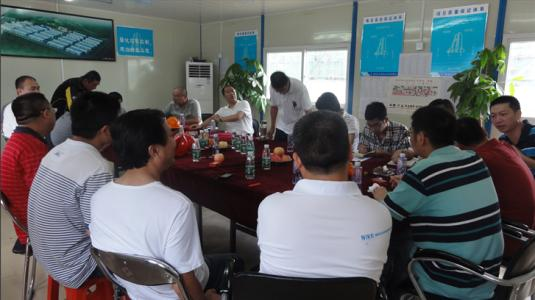person: (368, 106, 504, 300), (88, 108, 220, 300), (255, 109, 393, 292), (27, 91, 119, 300), (0, 92, 57, 254), (490, 94, 535, 178), (265, 71, 314, 146), (358, 100, 415, 161), (190, 85, 254, 136), (314, 91, 359, 152), (1, 74, 40, 142), (49, 70, 100, 120), (163, 86, 202, 127), (108, 91, 126, 115)
